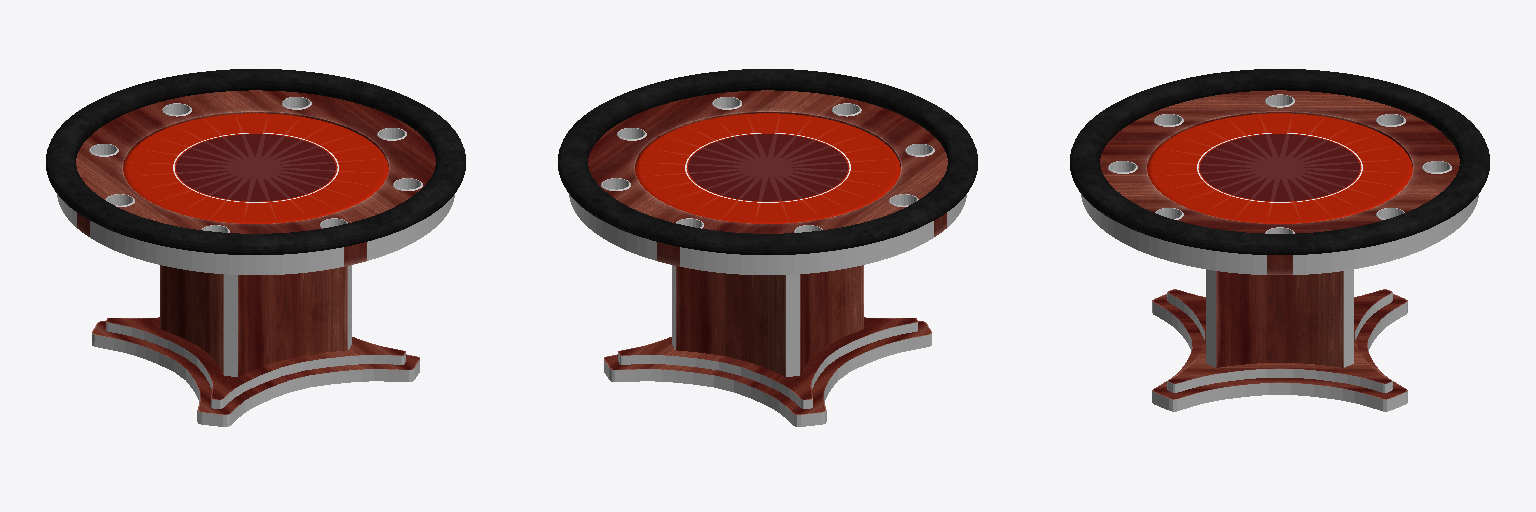
3 views of the same model, side by side, from view 1: azimuth 30°, elevation 25°; view 2: azimuth 150°, elevation 25°; view 3: azimuth 270°, elevation 25° (orthographic).
Parts seen in each view (by area): view 1: obj1, obj4, obj3, obj2; view 2: obj1, obj4, obj3, obj2; view 3: obj1, obj4, obj3, obj2.
Part boxes in pixels (bbox=[...]): obj1: bbox=[76, 90, 435, 414]; obj4: bbox=[123, 113, 388, 223]; obj3: bbox=[46, 69, 465, 254]; obj2: bbox=[57, 97, 454, 426]; obj1: bbox=[588, 90, 947, 414]; obj4: bbox=[635, 113, 900, 223]; obj3: bbox=[558, 69, 977, 254]; obj2: bbox=[569, 97, 966, 426]; obj1: bbox=[1100, 90, 1459, 399]; obj4: bbox=[1147, 113, 1412, 223]; obj3: bbox=[1070, 69, 1489, 254]; obj2: bbox=[1081, 94, 1478, 411].
Bounding box in the file's own units: 150 × 80.12 × 150.
Materials: 4 (4 with a texture image).